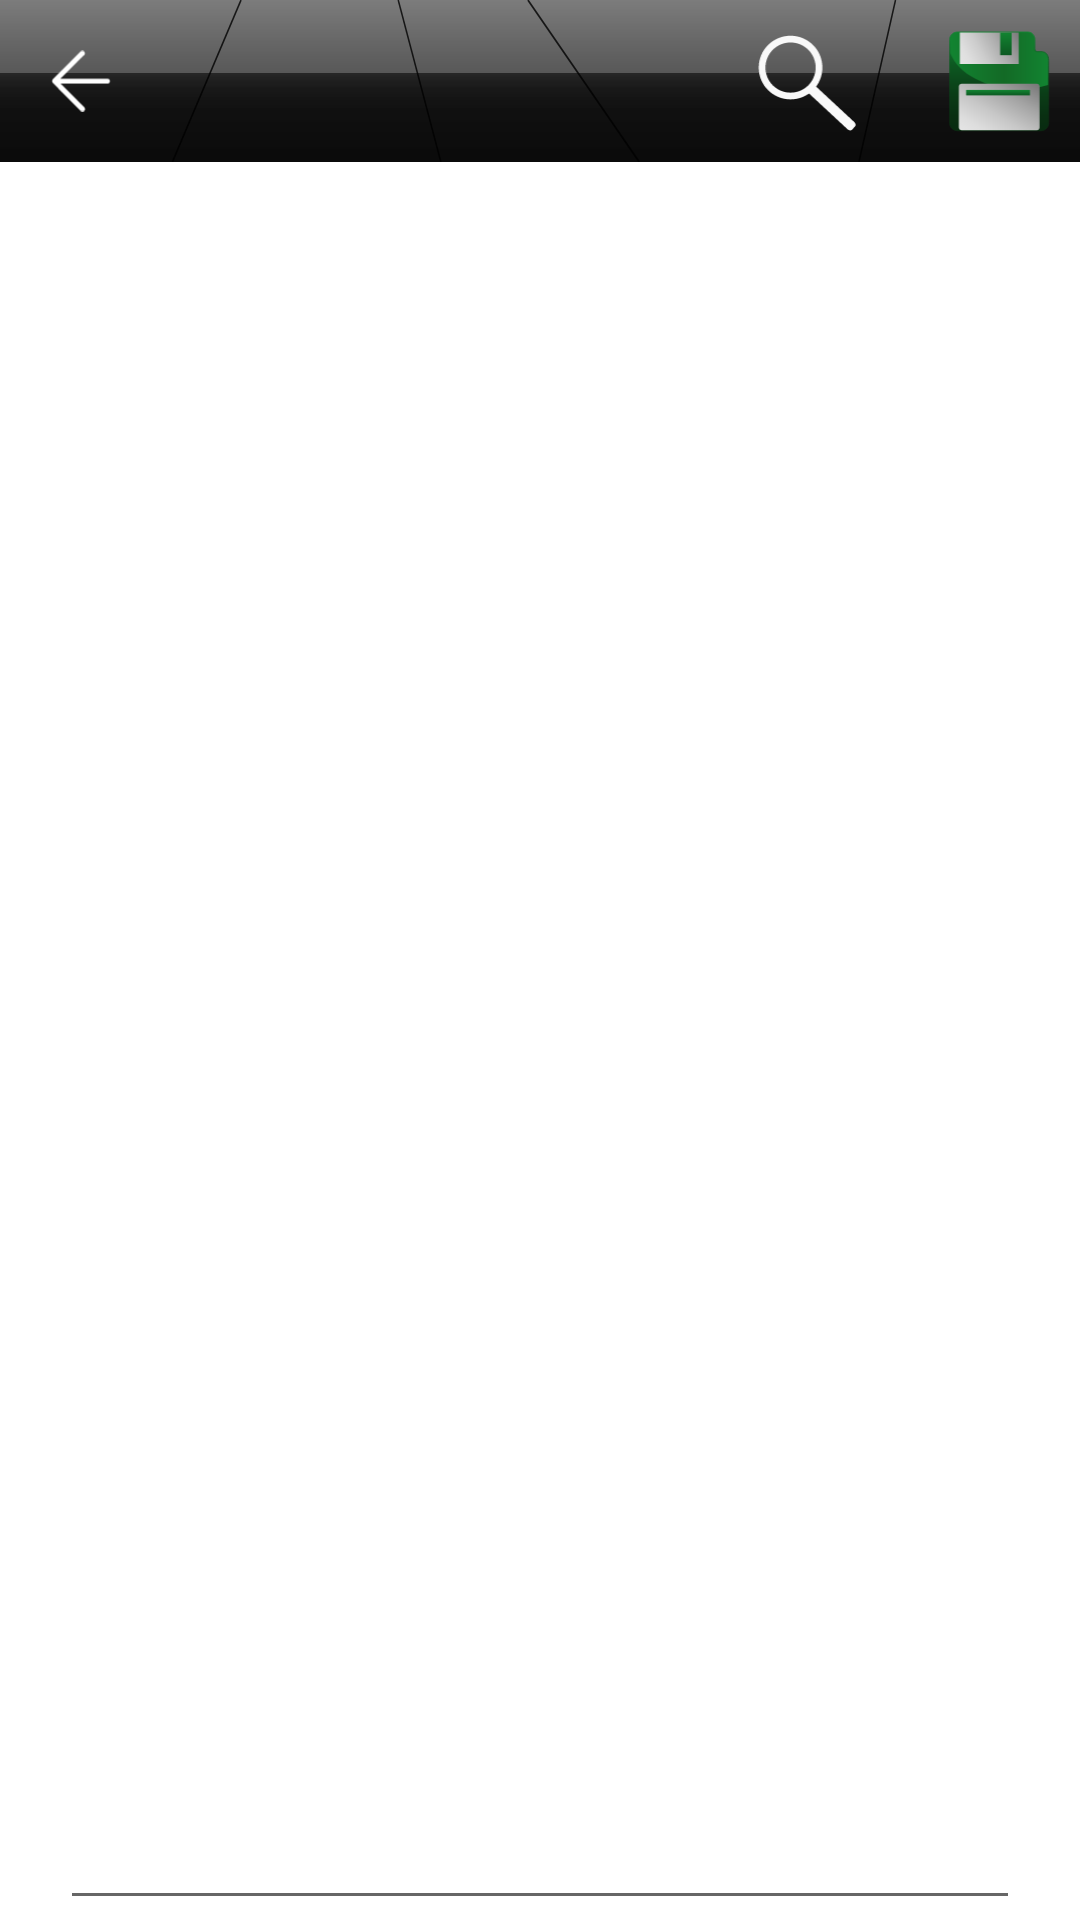

Point at icon controls on the screen. Image size 1080x1920, points as (x=x, y=y).
edit back: (x=81, y=81)
edit guardar: (x=999, y=81)
